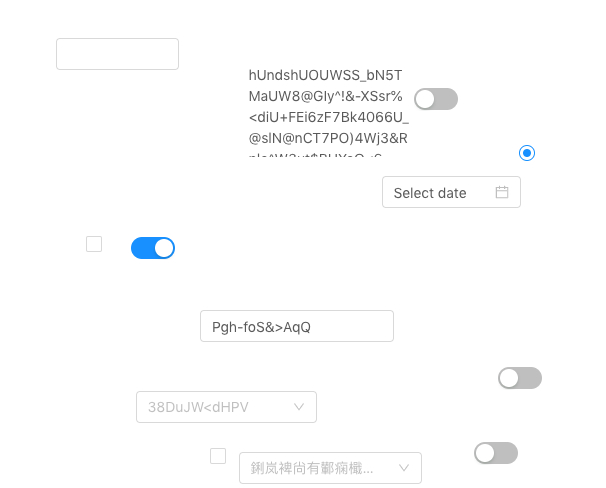Checkbox: (210, 445, 226, 466), (86, 233, 102, 254)
DatePicker: (382, 176, 521, 208)
Input: (200, 310, 394, 342), (56, 38, 179, 70)
Radio: (519, 142, 535, 162)
Select: (239, 452, 422, 484), (136, 391, 317, 423)
Switch: (498, 366, 542, 390), (414, 87, 458, 111), (474, 441, 518, 465), (131, 236, 175, 260)
Text: (249, 64, 414, 157)
